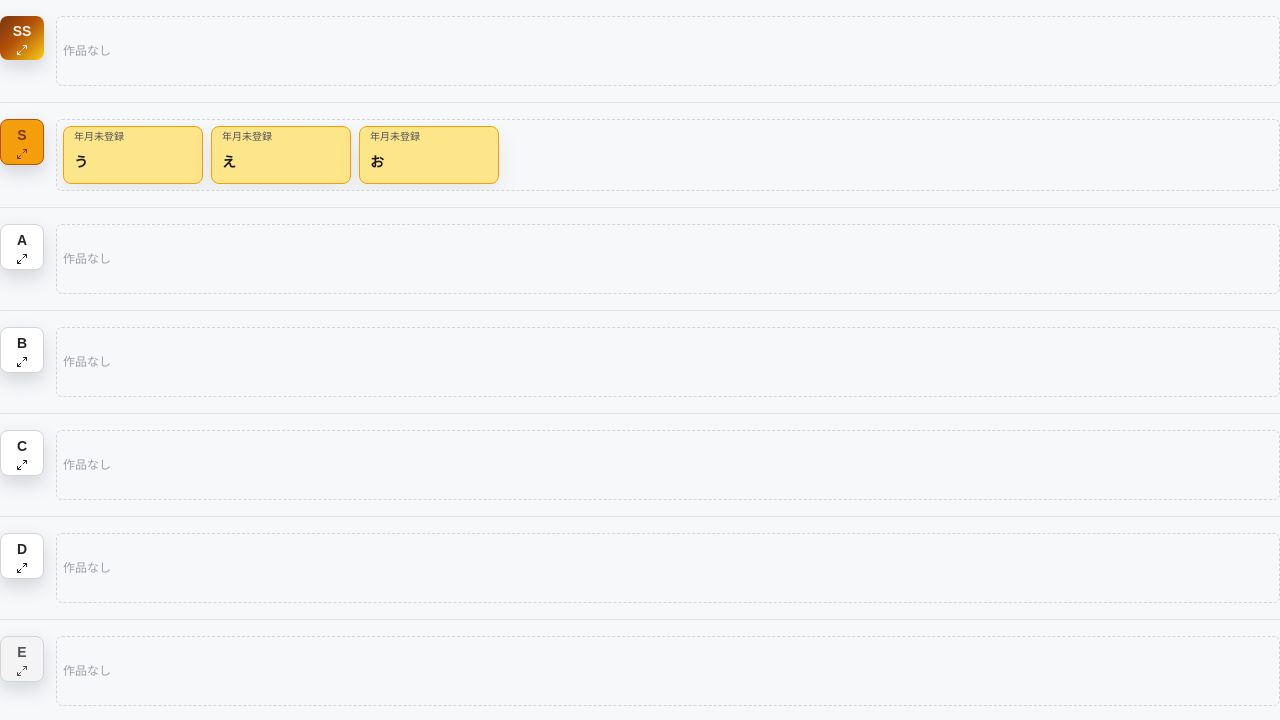
Scenario: offers non-drag placement in a dialog without adding controls to cards
Click the button named "えを移動".
click(281, 155)  # box [212,127,350,183]
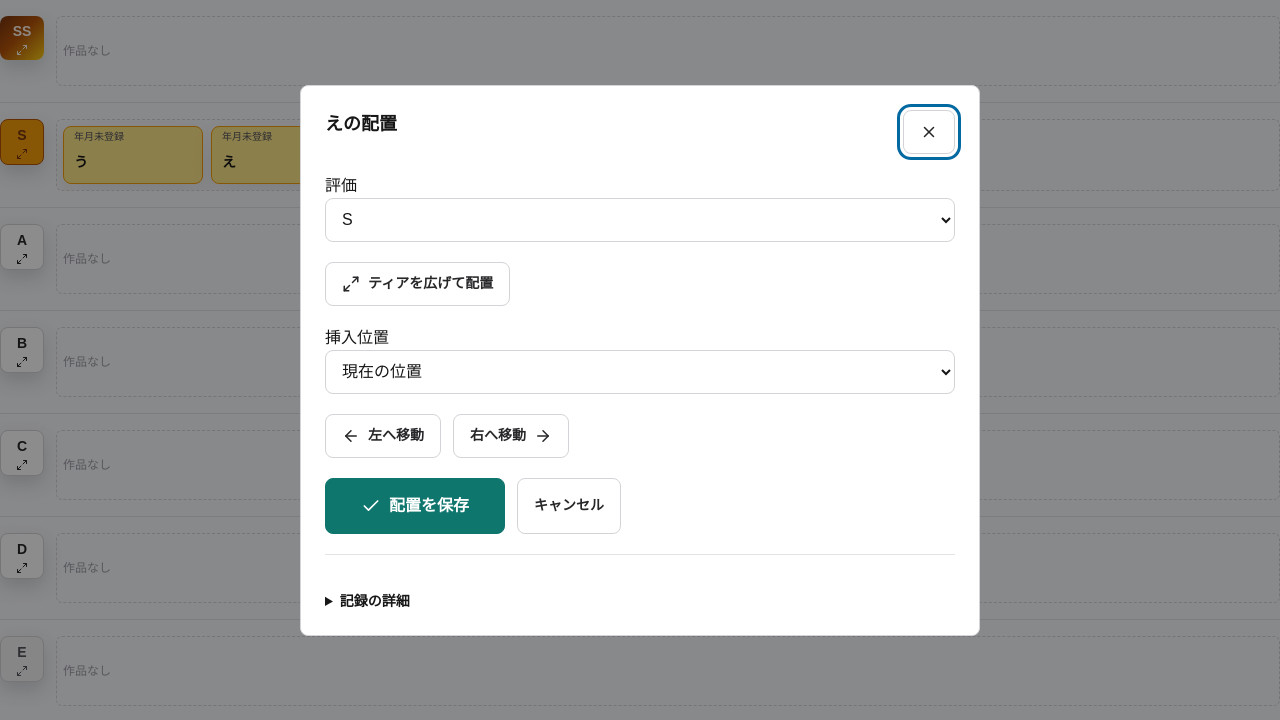
Click the button "左へ移動".
click(383, 436)  # box [325,414,441,458]
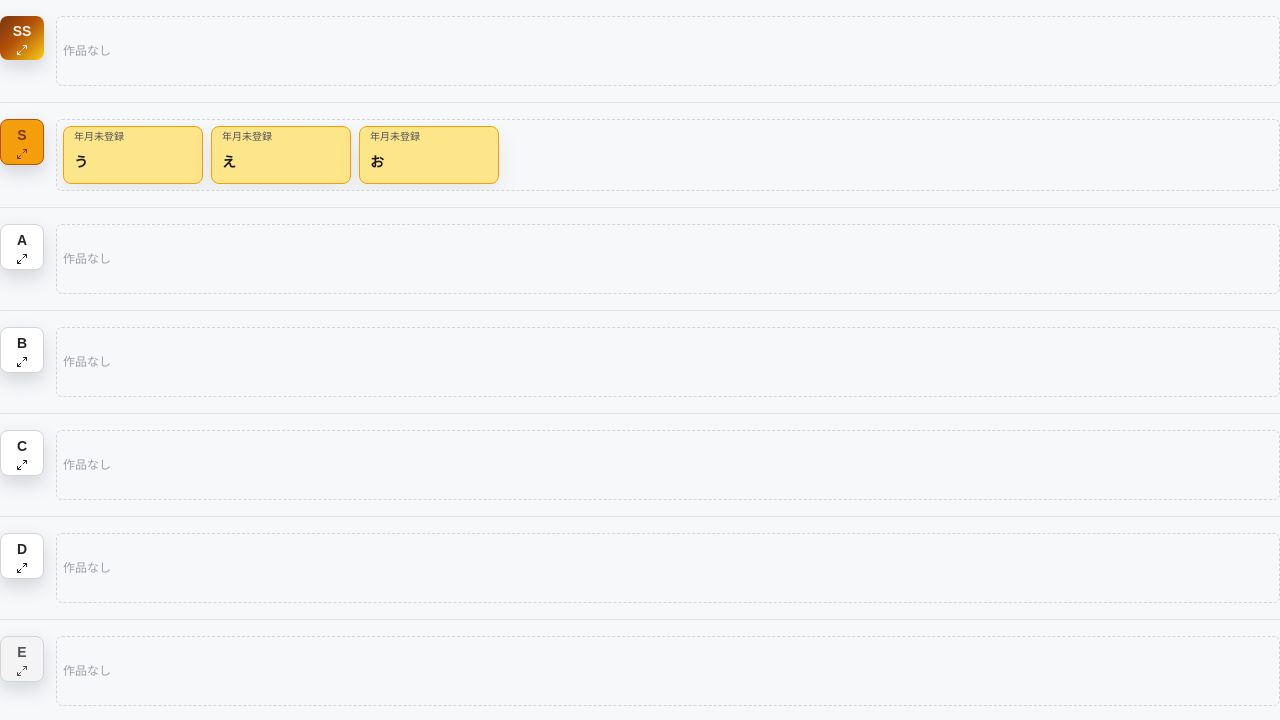
Expected: the dialog is gone
